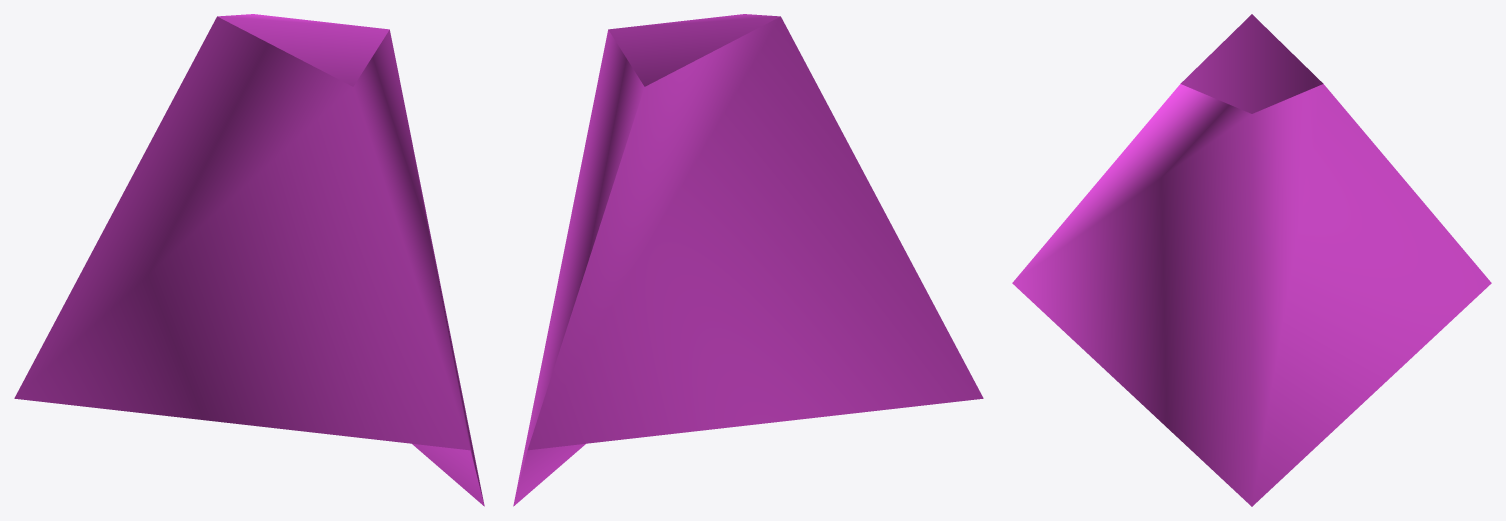
The model's file is songbird_diamond_shard02.glb.
The picture shows the model from 3 angles, left to right: view 1: azimuth 30°, elevation 25°; view 2: azimuth 150°, elevation 25°; view 3: azimuth 270°, elevation 25°; orthographic projection. The views are drawn at different scales.
Visible parts, largest first — view 1: songbird_diamond_shard02_0; view 2: songbird_diamond_shard02_0; view 3: songbird_diamond_shard02_0.
Part boxes in pixels (box(x1,y1,x2,y2)): songbird_diamond_shard02_0: box(14, 14, 484, 506); songbird_diamond_shard02_0: box(513, 14, 983, 506); songbird_diamond_shard02_0: box(1012, 14, 1491, 506).
Bounding box in the file's own units: 8.88 × 10.02 × 10.92.
Materials: 1 (1 with a texture image).
